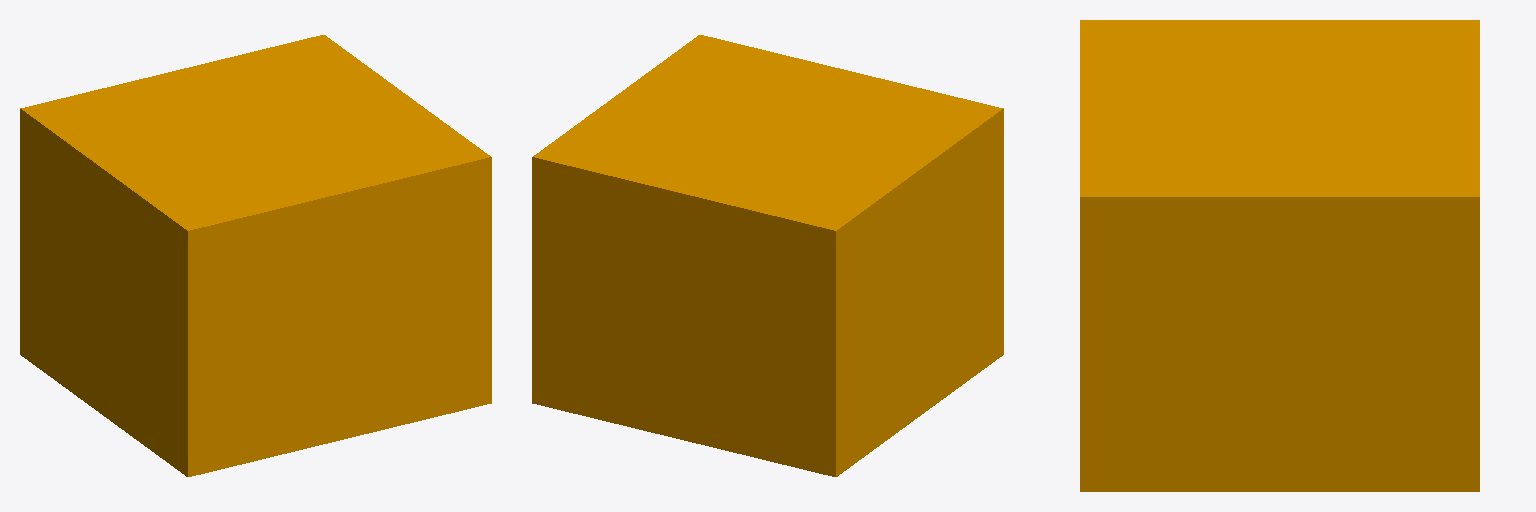
URDF robot description (object):
<?xml version="1.0"?>
<!-- Auto-generated by tools/gen_primitive_objects.py. kind=box dims=(0.075589, 0.072184, 0.058648) -->
<robot name="object">
  <link name="object">
    <visual>
      <origin xyz="0 0 0"/>
      <geometry>
        <box size="0.075589 0.072184 0.058648"/>
      </geometry>
    </visual>
    <collision>
      <origin xyz="0 0 0"/>
      <geometry>
        <box size="0.075589 0.072184 0.058648"/>
      </geometry>
    </collision>
    <inertial>
      <mass value="0.064000"/>
      <inertia ixx="0.00004613" ixy="0.0" ixz="0.0" iyy="0.00004882" iyz="0.0" izz="0.00005826"/>
    </inertial>
  </link>
</robot>

--- What the picture shows (computed from the rendered views, not written in the file) ---
The picture shows the robot from 3 angles, left to right: view 1: azimuth 30°, elevation 25°; view 2: azimuth 150°, elevation 25°; view 3: azimuth 270°, elevation 25°; orthographic projection.
Robot: object — 1 links, 0 joints (none); root link object; default pose: all joints at 0.
Links seen in each view (by area): view 1: object; view 2: object; view 3: object.
Boxes of the visible links, <box> form: object: <box>20,35,491,476</box>; object: <box>532,35,1003,476</box>; object: <box>1080,20,1479,491</box>.
Size in the robot's own frame: 0.0756 by 0.0722 by 0.0586 metres.
Geometry: primitives only (box / cylinder / sphere), no mesh files.
